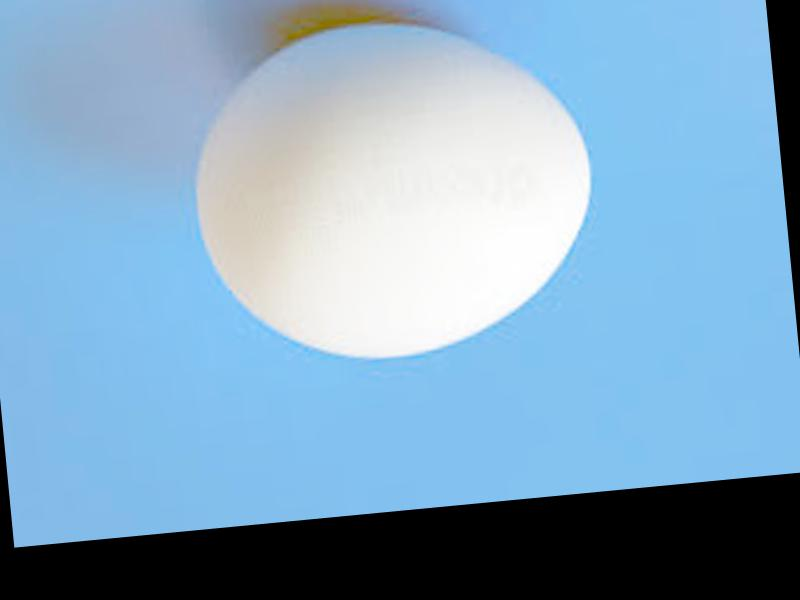Eggs: (178, 2, 610, 373)
